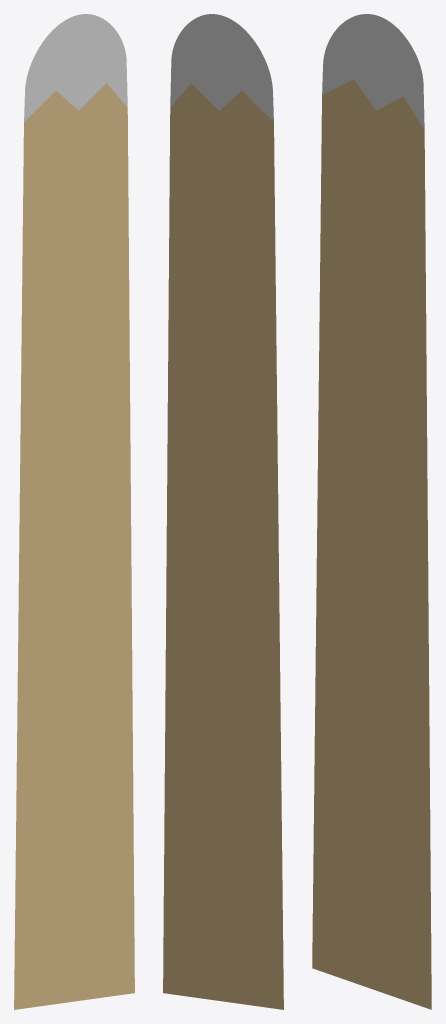
File: montain01_fbx.fbx
3 renders of one model, left to right at view 1: azimuth 30°, elevation 25°; view 2: azimuth 150°, elevation 25°; view 3: azimuth 330°, elevation 25°, orthographic.
Visible parts, largest first — view 1: mountain01; view 2: mountain01; view 3: mountain01.
Part boxes in pixels (x1,y1,x2,y2): mountain01: [14, 14, 134, 1009]; mountain01: [163, 14, 283, 1009]; mountain01: [312, 14, 431, 1009].
Size of the model in its own units: 246 by 1932 by 0.
